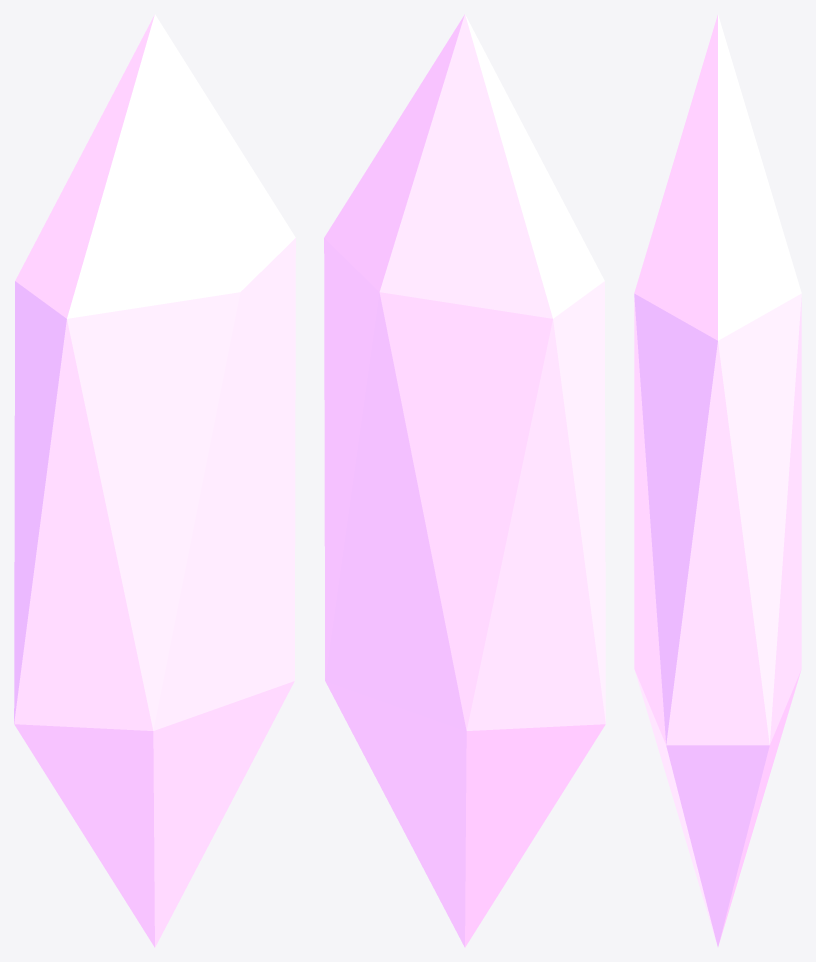
The model's file is arcane_shard_c.glb.
The picture shows the model from 3 angles, left to right: view 1: azimuth 30°, elevation 25°; view 2: azimuth 150°, elevation 25°; view 3: azimuth 270°, elevation 25°; orthographic projection.
Parts seen in each view (by area): view 1: arcane_shard_c; view 2: arcane_shard_c; view 3: arcane_shard_c.
Part boxes in pixels (box(x1,y1,x2,y2)): arcane_shard_c: box(14, 14, 295, 947); arcane_shard_c: box(324, 14, 605, 947); arcane_shard_c: box(634, 15, 801, 946).
Bounding box in the file's own units: 0.2147 × 0.68 × 0.1106.
